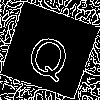Q: (24, 25, 76, 84)
